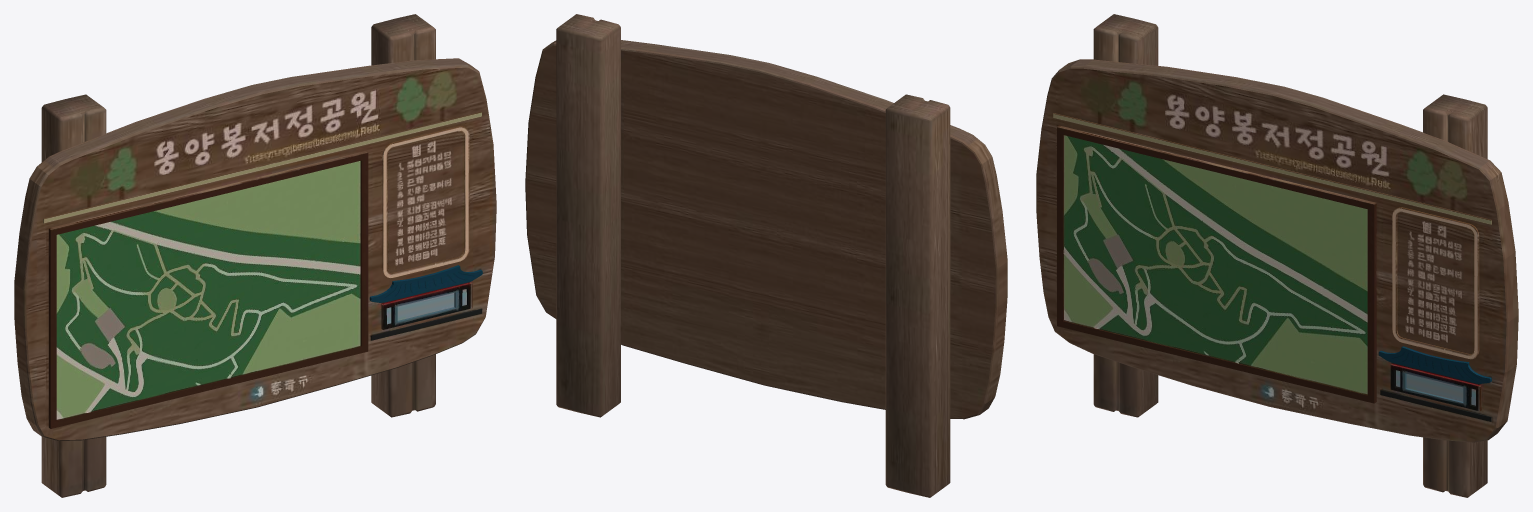
File: yongyangbongjeojeong_park.glb
The picture shows the model from 3 angles, left to right: view 1: azimuth 30°, elevation 25°; view 2: azimuth 150°, elevation 25°; view 3: azimuth 330°, elevation 25°; orthographic projection.
Parts seen in each view (by area): view 1: Seoul25_2; view 2: Seoul25_2; view 3: Seoul25_2.
Part boxes in pixels (bbox=[...]): Seoul25_2: bbox=[14, 14, 496, 497]; Seoul25_2: bbox=[525, 14, 1007, 497]; Seoul25_2: bbox=[1036, 14, 1518, 497].
Bounding box in the file's own units: 7.84 × 6.01 × 0.9545.
1 material, 1 textured.
